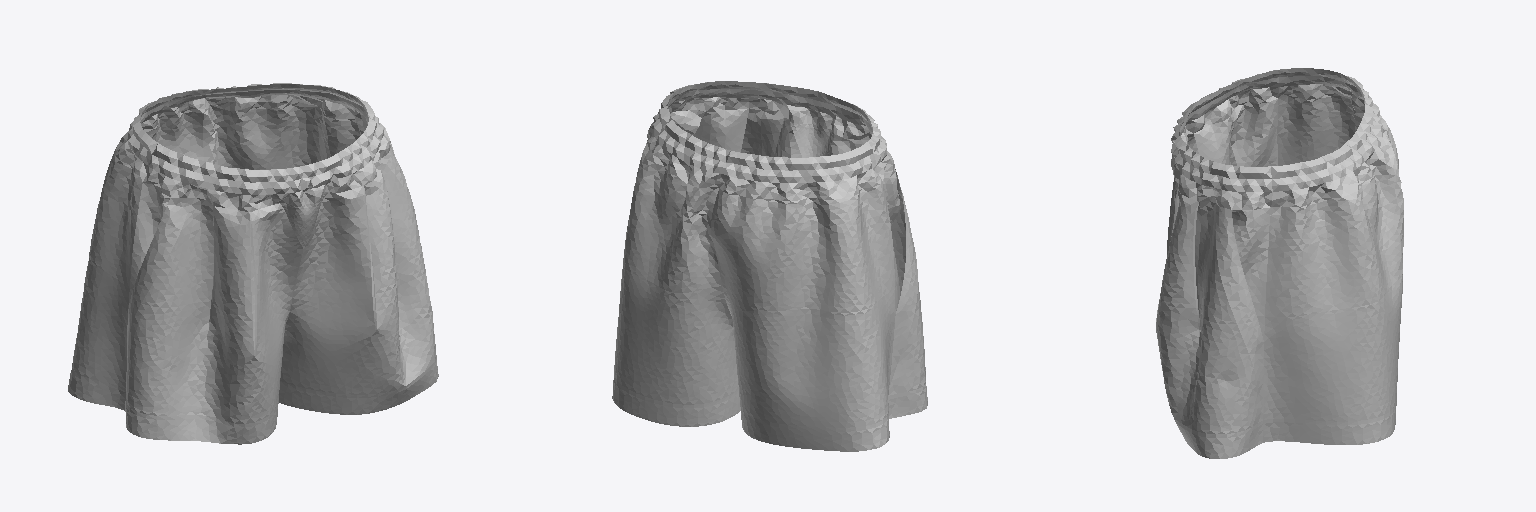
File: Large_Average.obj
The picture shows the model from 3 angles: view 1: azimuth 30°, elevation 25°; view 2: azimuth 150°, elevation 25°; view 3: azimuth 270°, elevation 25°; orthographic projection.
Visible parts, largest first — view 1: duanku.003; view 2: duanku.003; view 3: duanku.003.
Part boxes in pixels (left/top/right/bottom): duanku.003: left=68, top=83, right=438, bottom=444; duanku.003: left=612, top=81, right=927, bottom=451; duanku.003: left=1156, top=68, right=1403, bottom=458.
Size of the model in its own units: 0.558 by 0.5023 by 0.398.